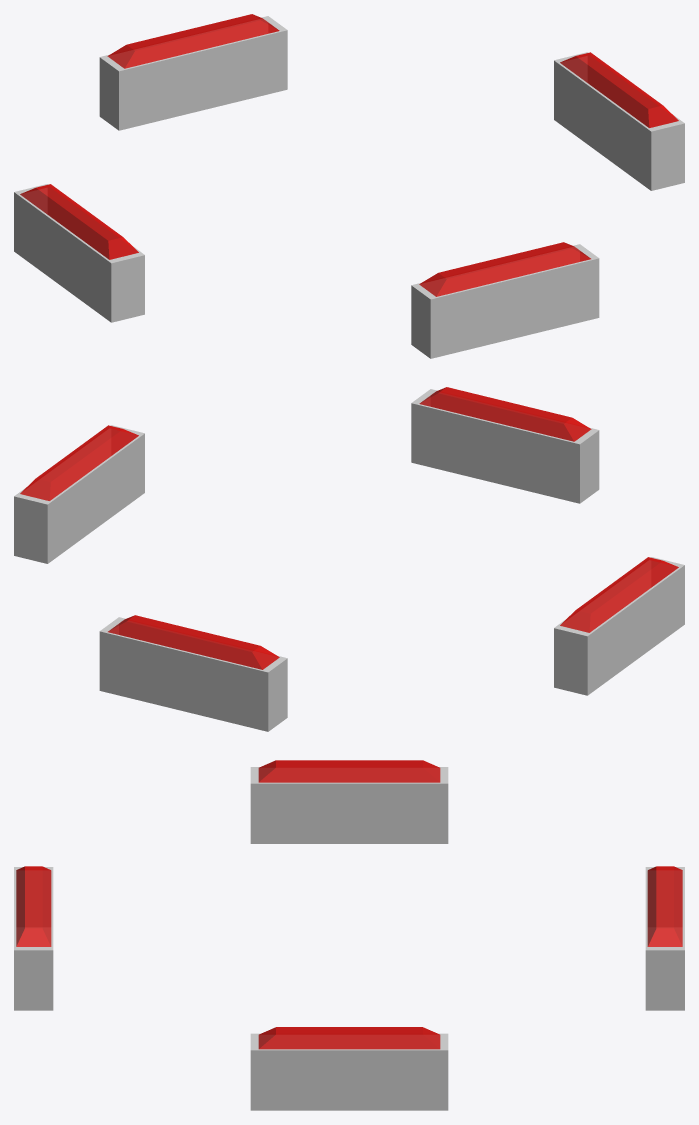
The model's file is PieceArme.fbx.
3 renders of one model, top to bottom at view 1: azimuth 30°, elevation 25°; view 2: azimuth 150°, elevation 25°; view 3: azimuth 270°, elevation 25°, orthographic.
Parts seen in each view (by area): view 1: GemmeArme; view 2: GemmeArme; view 3: GemmeArme.
Part boxes in pixels (x1,y1,x2,y2): GemmeArme: [14, 14, 684, 358]; GemmeArme: [14, 387, 684, 731]; GemmeArme: [14, 760, 684, 1110].
Bounding box in the file's own units: 1.7 × 1.7 × 0.2.
